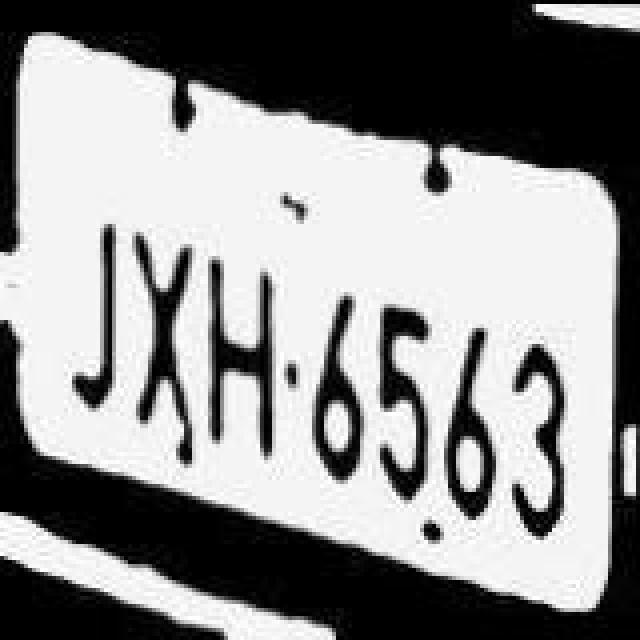3: (506, 322, 570, 550)
5: (366, 278, 430, 510)
6: (298, 274, 362, 498), (442, 310, 498, 526)
H: (204, 228, 280, 464)
J: (72, 184, 132, 408)
X: (132, 198, 200, 418)
